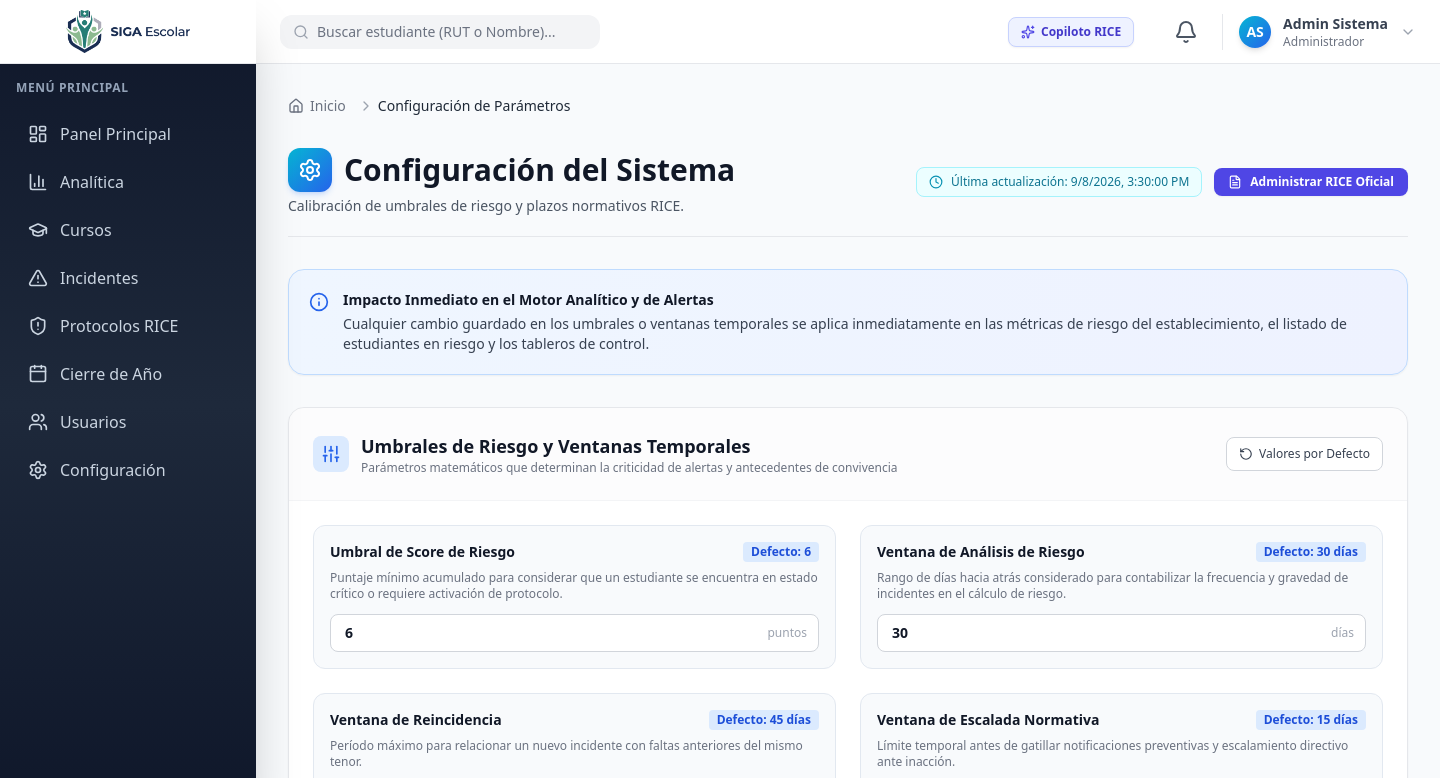
Scenario: ConfiguracionPage (HU 5.3) › guarda exitosamente los parámetros modificados cuando son válidos
The width and height of the screenshot is (1440, 778).
Replace the text in the number field labelled "Umbral de Score de Riesgo" with "8" at (574, 633), box [330,614,819,652]
(page scrolled)
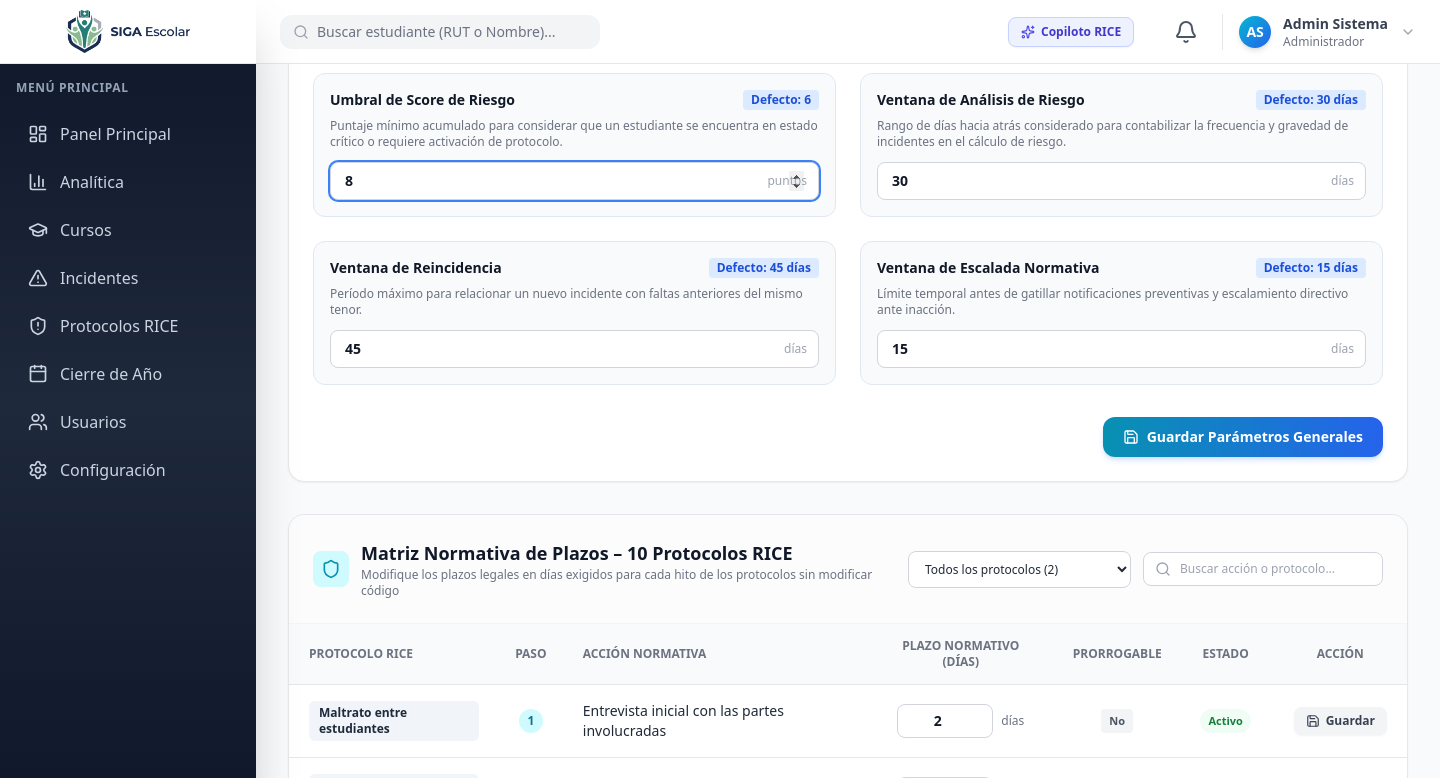
Click the button "Guardar Parámetros Generales" at (1243, 437), box [1103,417,1383,457]
(page scrolled)
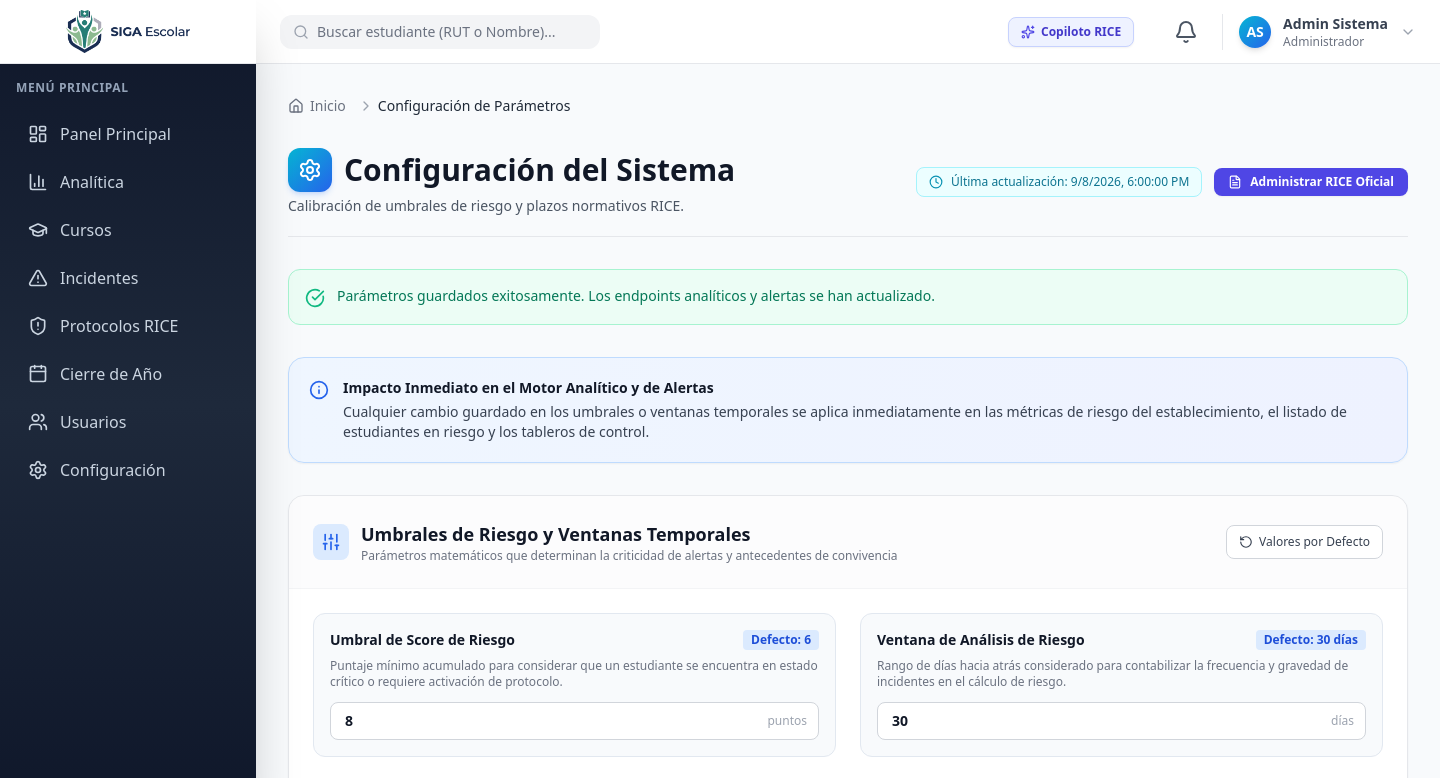
Now the text "Parámetros guardados exitosamente" is shown, box [337,286,935,305]
